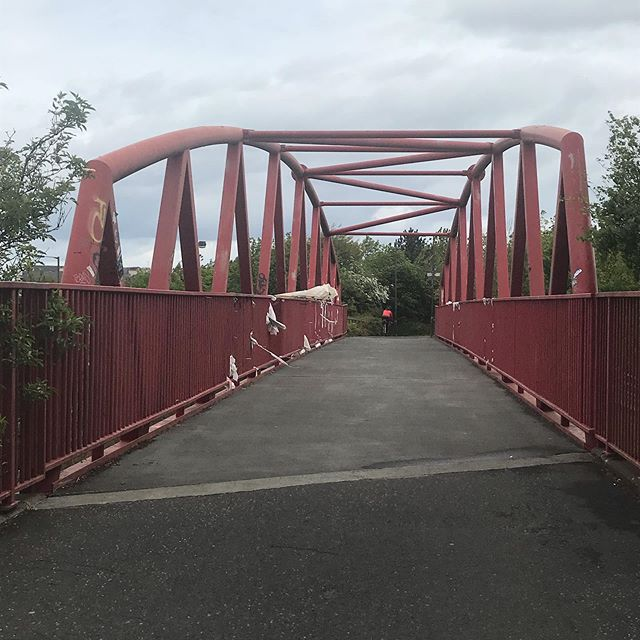bridge: (28, 125, 640, 640)
sky: (1, 1, 640, 198)
